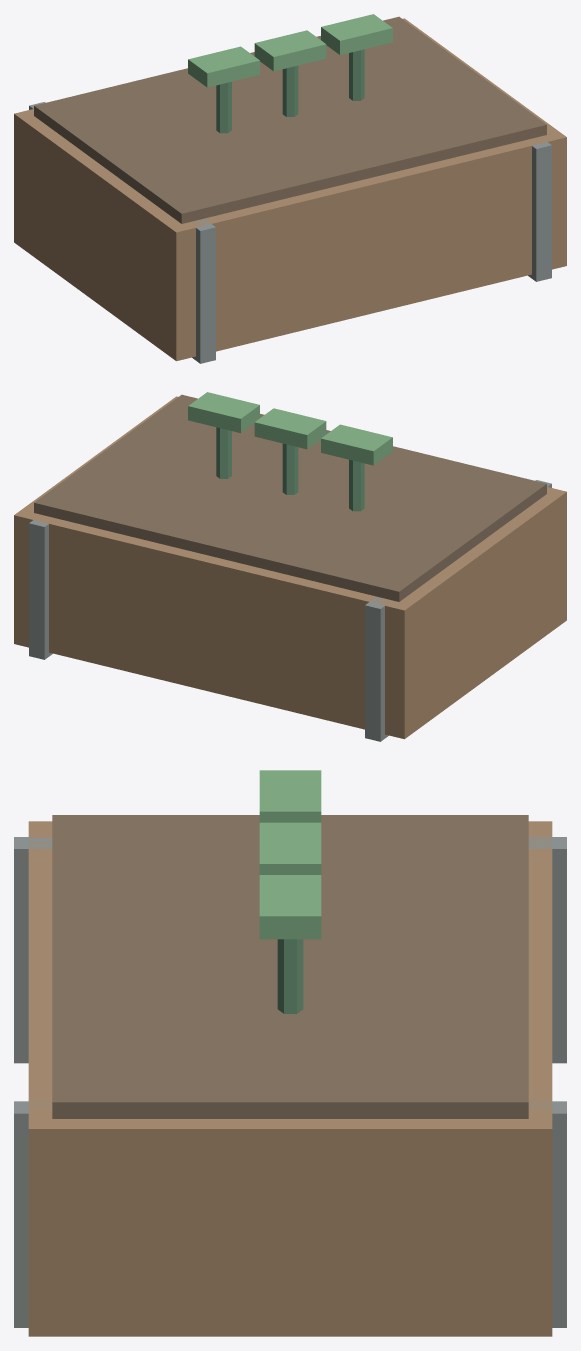
The model's file is town_planter.glb.
3 renders of one model, top to bottom at view 1: azimuth 30°, elevation 25°; view 2: azimuth 150°, elevation 25°; view 3: azimuth 270°, elevation 25°, orthographic. The views are drawn at different scales.
Parts seen in each view (by area): view 1: planter timber sides, planter topsoil, reclaimed metal corner, reclaimed metal corner.001, green edible leaf.001, green edible leaf, green edible leaf.002, green shoot stem.001, green shoot stem, green shoot stem.002; view 2: planter timber sides, planter topsoil, reclaimed metal corner, reclaimed metal corner.001, green edible leaf.001, green edible leaf, green edible leaf.002, green shoot stem.001, green shoot stem, green shoot stem.002; view 3: planter topsoil, planter timber sides, reclaimed metal corner, reclaimed metal corner.001, green edible leaf.002, green edible leaf, green edible leaf.001, green shoot stem.002.
Part boxes in pixels (left/top/right/bottom): planter timber sides: left=14, top=18, right=566, bottom=361; planter topsoil: left=34, top=16, right=546, bottom=223; reclaimed metal corner: left=29, top=102, right=215, bottom=363; reclaimed metal corner.001: left=528, top=142, right=551, bottom=281; green edible leaf.001: left=254, top=30, right=326, bottom=71; green edible leaf: left=188, top=46, right=259, bottom=87; green edible leaf.002: left=321, top=14, right=392, bottom=55; green shoot stem.001: left=282, top=65, right=298, bottom=116; green shoot stem: left=216, top=81, right=231, bottom=133; green shoot stem.002: left=349, top=49, right=364, bottom=100; planter timber sides: left=14, top=396, right=566, bottom=739; planter topsoil: left=34, top=394, right=546, bottom=601; reclaimed metal corner: left=365, top=480, right=551, bottom=741; reclaimed metal corner.001: left=29, top=520, right=52, bottom=659; green edible leaf.001: left=254, top=408, right=326, bottom=449; green edible leaf: left=321, top=424, right=392, bottom=465; green edible leaf.002: left=188, top=392, right=259, bottom=433; green shoot stem.001: left=282, top=443, right=298, bottom=494; green shoot stem: left=349, top=459, right=364, bottom=511; green shoot stem.002: left=216, top=427, right=231, bottom=478; planter topsoil: left=52, top=815, right=528, bottom=1118; planter timber sides: left=28, top=821, right=552, bottom=1336; reclaimed metal corner: left=14, top=837, right=566, bottom=1063; reclaimed metal corner.001: left=14, top=1101, right=566, bottom=1327; green edible leaf.002: left=259, top=875, right=321, bottom=939; green edible leaf: left=259, top=770, right=321, bottom=822; green edible leaf.001: left=259, top=822, right=321, bottom=874; green shoot stem.002: left=277, top=939, right=303, bottom=1013.
Bounding box in the file's own units: 2 × 1.05 × 1.52.
